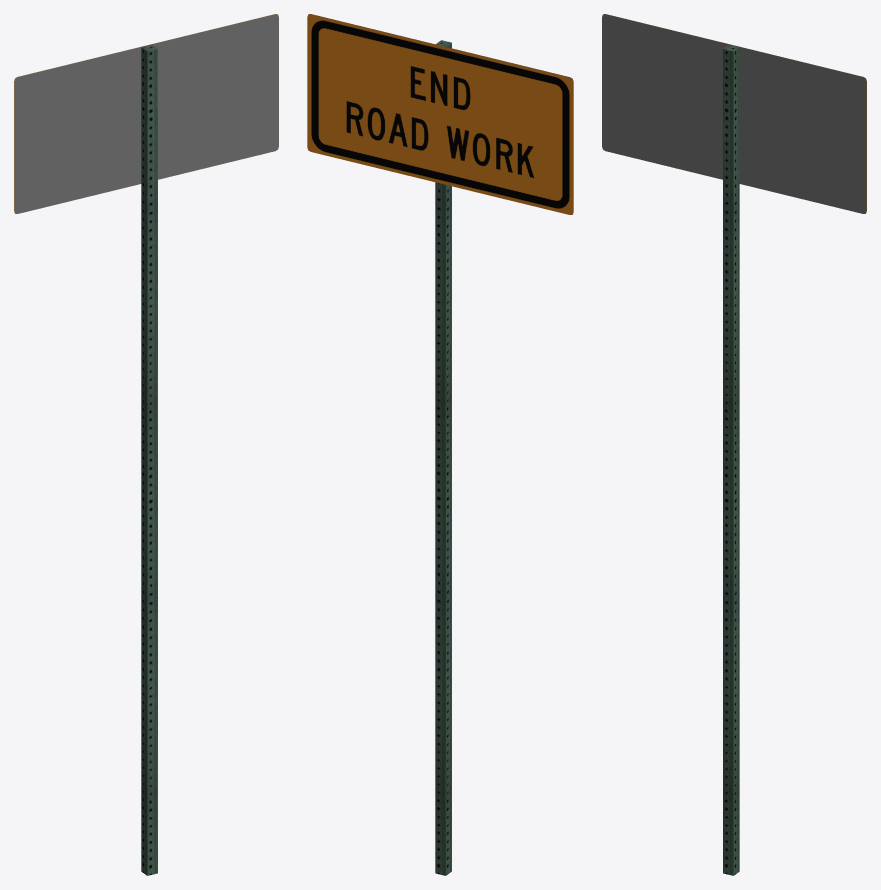
The model's file is GSDSign988-Small.FBX.
The picture shows the model from 3 angles, left to right: view 1: azimuth 30°, elevation 25°; view 2: azimuth 150°, elevation 25°; view 3: azimuth 330°, elevation 25°; orthographic projection.
Parts seen in each view (by area): view 1: GSDSign988-Small; view 2: GSDSign988-Small; view 3: GSDSign988-Small.
Boxes of the visible parts, x1,y1,x2,y2 form: GSDSign988-Small: (14, 14, 278, 875); GSDSign988-Small: (307, 14, 573, 875); GSDSign988-Small: (602, 14, 866, 875).
Size of the model in its own units: 0.7559 by 2.25 by 0.031.
Materials: 1 (1 with a texture image).
